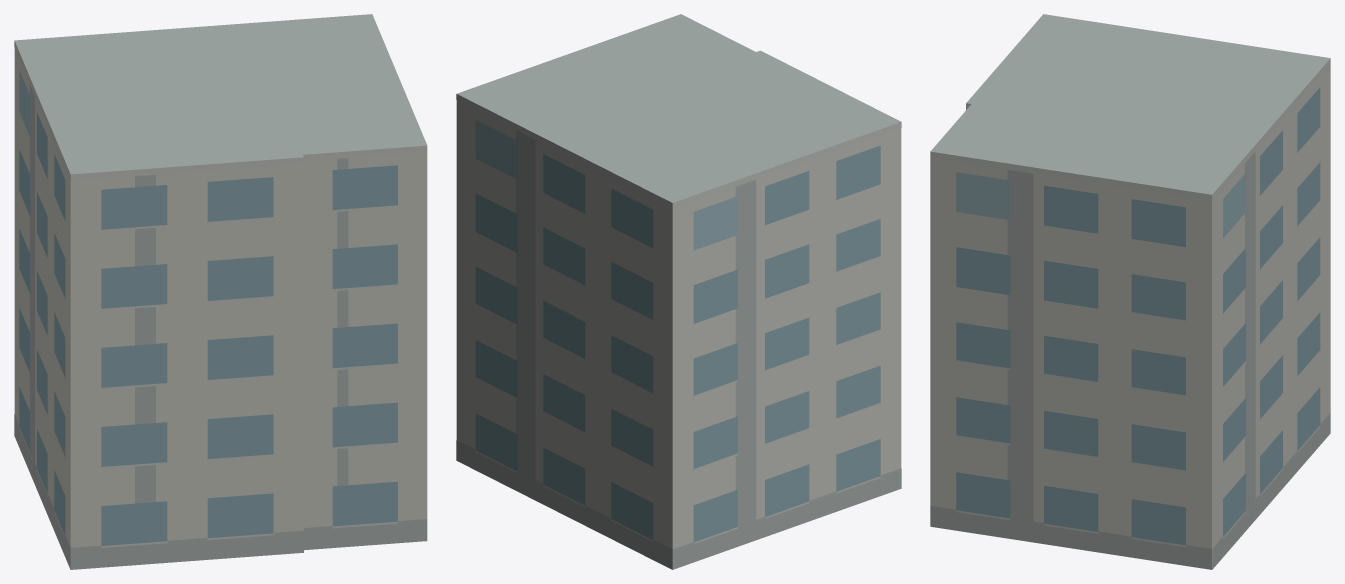
Rendered from survey-upis-32954304.glb.
The picture shows the model from 3 angles, left to right: view 1: azimuth 30°, elevation 25°; view 2: azimuth 150°, elevation 25°; view 3: azimuth 270°, elevation 25°; orthographic projection. The views are drawn at different scales.
Visible parts, largest first — view 1: survey-upis-32954304.tmp; view 2: survey-upis-32954304.tmp; view 3: survey-upis-32954304.tmp.
Part boxes in pixels (left/top/right/bottom): survey-upis-32954304.tmp: left=14, top=14, right=427, bottom=569; survey-upis-32954304.tmp: left=456, top=14, right=901, bottom=569; survey-upis-32954304.tmp: left=930, top=14, right=1330, bottom=569.
Size of the model in its own units: 15 by 14.5 by 14.04.
